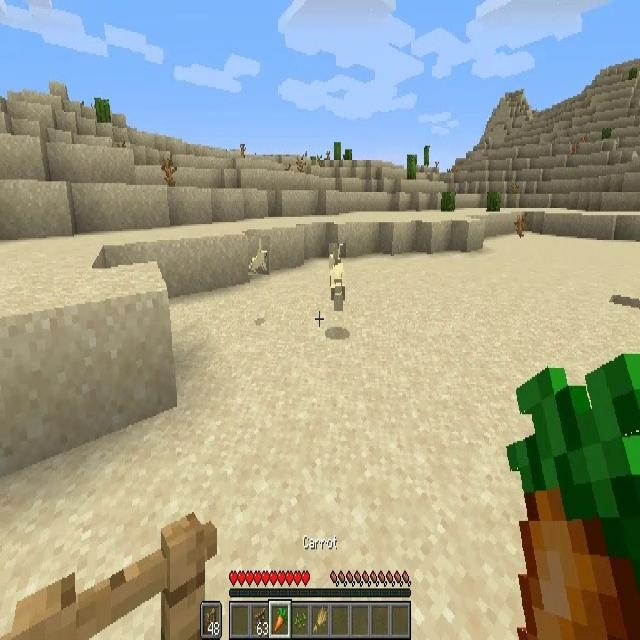rabbit: (329, 243, 346, 311), (248, 236, 270, 275)
